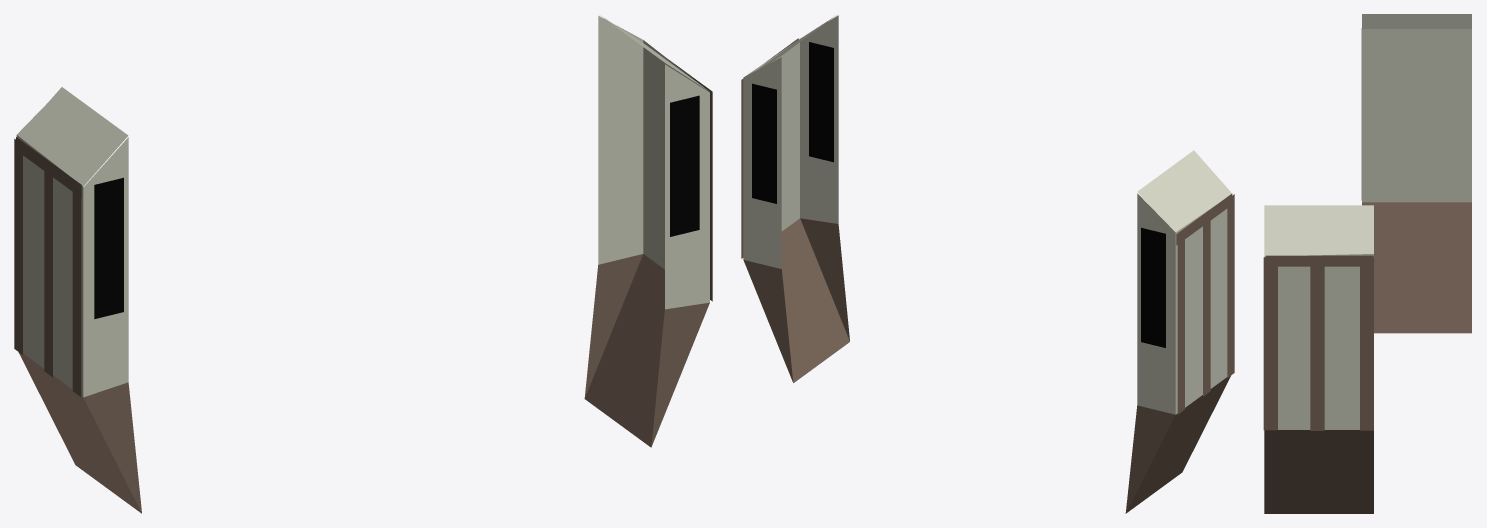
File: lnwr-duckets.dae
3 views of the same model, side by side, from view 1: azimuth 30°, elevation 25°; view 2: azimuth 150°, elevation 25°; view 3: azimuth 270°, elevation 25° (orthographic). The views are drawn at different scales.
Parts seen in each view (by area): view 1: Plane_123_001, Plane_123, Plane_405, Plane_020, Plane_122, Plane_120, Plane_121; view 2: Plane_123_001, Plane_123, Plane_019, Plane_023, Plane_022, Plane_120, Plane_121, Plane_122; view 3: Plane_123, Plane_123_001, Plane_120_001, Plane_122_001, Plane_121_001, Plane_398.
Part boxes in pixels (box(x1,y1,x2,y2)): Plane_123_001: box(584, 15, 709, 447); Plane_123: box(16, 87, 141, 513); Plane_405: box(670, 95, 699, 236); Plane_020: box(94, 177, 123, 319); Plane_122: box(72, 181, 81, 396); Plane_120: box(44, 160, 52, 377); Plane_121: box(14, 138, 22, 354); Plane_123_001: box(743, 15, 849, 382); Plane_123: box(1125, 150, 1231, 513); Plane_019: box(1141, 227, 1165, 347); Plane_023: box(752, 83, 776, 203); Plane_022: box(809, 42, 833, 162); Plane_120: box(1203, 212, 1210, 396); Plane_121: box(1177, 230, 1184, 414); Plane_122: box(1227, 194, 1234, 377); Plane_123: box(1362, 14, 1471, 333); Plane_123_001: box(1264, 205, 1373, 513); Plane_120_001: box(1310, 257, 1324, 430); Plane_122_001: box(1263, 257, 1277, 430); Plane_121_001: box(1360, 257, 1373, 430); Plane_398: box(1265, 255, 1373, 266).
Size of the model in its own units: 2.28 by 0.8769 by 1.45.
